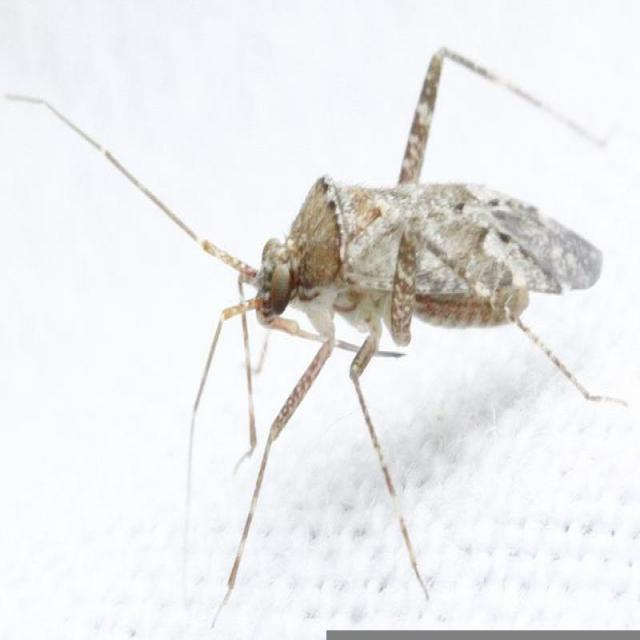Miridae-Adult-: (102, 39, 628, 572)
